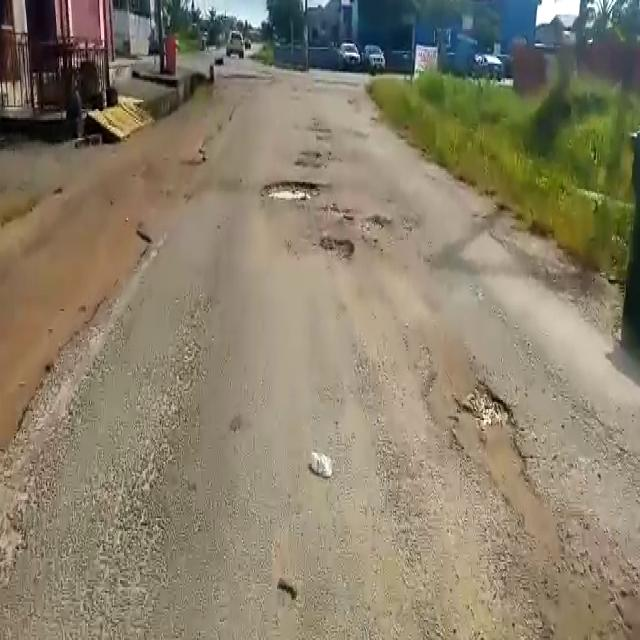Pothole: (451, 377, 562, 555), (260, 177, 320, 198), (315, 234, 357, 257)
